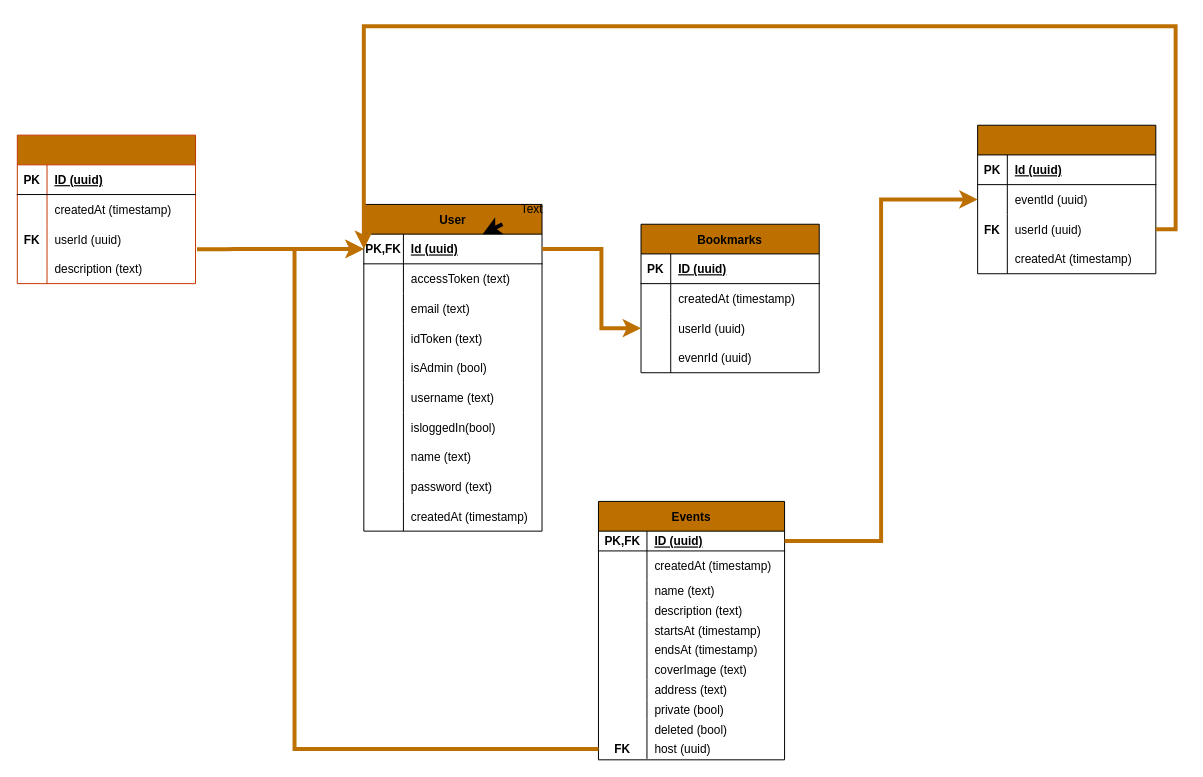
Some shapes in this 1203 by 777 pixel diagram are drawn without their labels. Each missing label, with the box of its shape:
Attendees: (977, 124, 1156, 274)
feedback: (16, 134, 196, 284)
